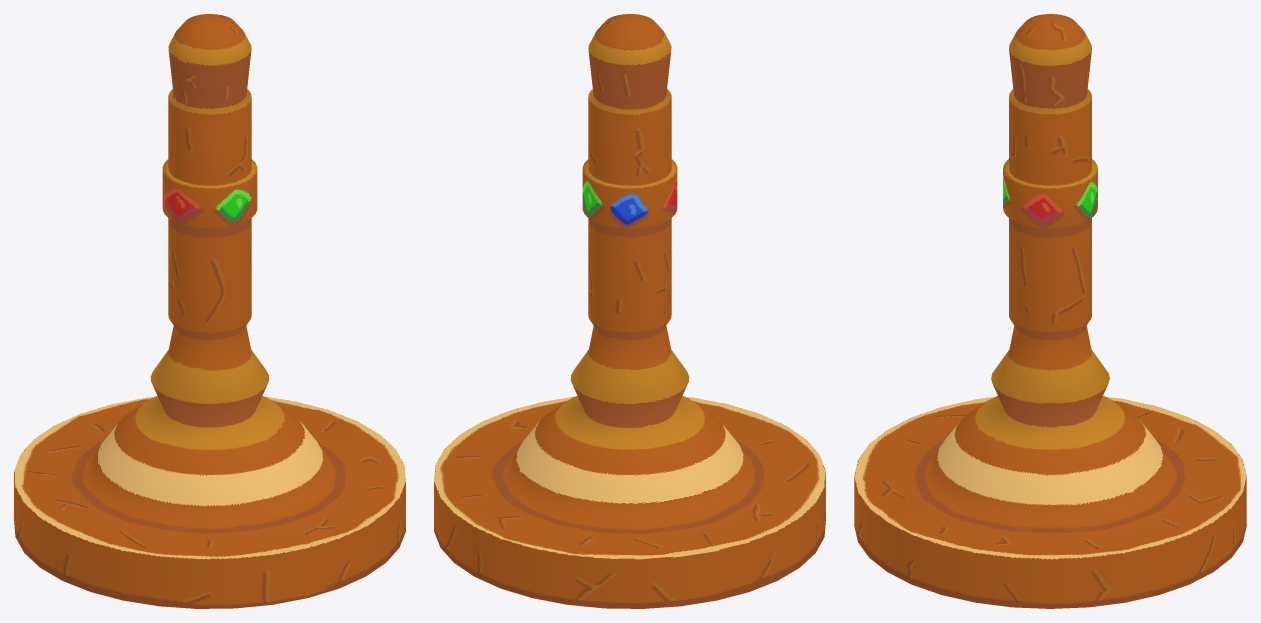
Rendered from caduKidStamp.glb.
3 renders of one model, left to right at view 1: azimuth 30°, elevation 25°; view 2: azimuth 150°, elevation 25°; view 3: azimuth 270°, elevation 25°, orthographic.
Parts seen in each view (by area): view 1: caduStamp; view 2: caduStamp; view 3: caduStamp.
Part boxes in pixels (x1=…): caduStamp: x1=14, y1=14, x2=405, y2=608; caduStamp: x1=434, y1=14, x2=825, y2=608; caduStamp: x1=854, y1=14, x2=1246, y2=608.
Size of the model in its own units: 0.0964 by 0.1391 by 0.0964.
2 materials, 2 textured.
